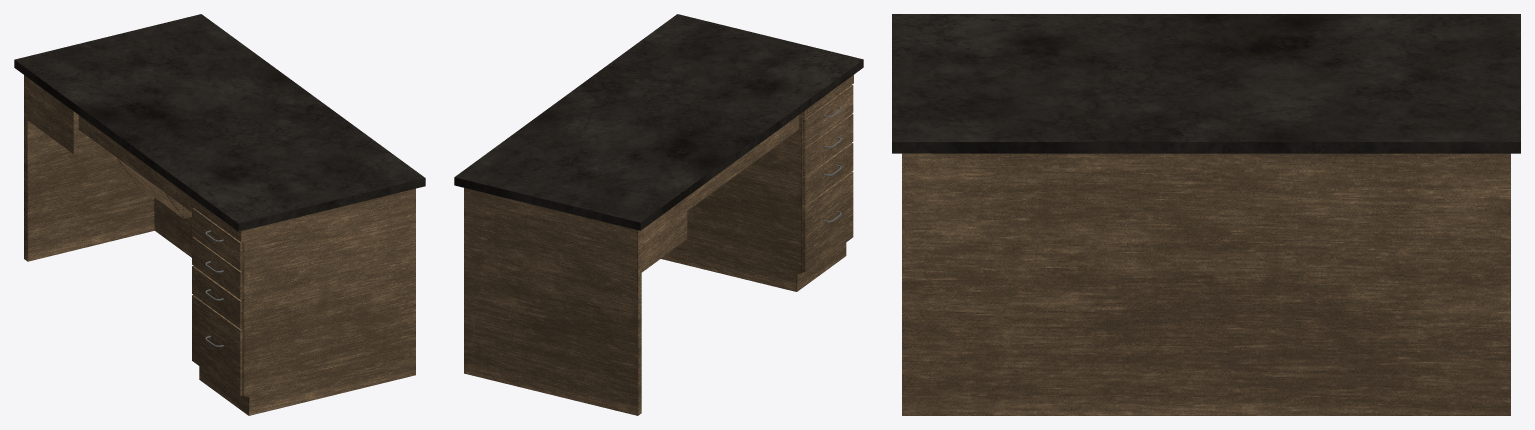
Rendered from ScienceTableMediumTextureResolution.glb.
3 renders of one model, left to right at view 1: azimuth 30°, elevation 25°; view 2: azimuth 150°, elevation 25°; view 3: azimuth 270°, elevation 25°, orthographic. The views are drawn at different scales.
Visible parts, largest first — view 1: Table; view 2: Table; view 3: Table.
Part boxes in pixels (x1=…): Table: x1=14, y1=14, x2=425, y2=415; Table: x1=454, y1=14, x2=863, y2=415; Table: x1=892, y1=14, x2=1520, y2=415.
Size of the model in its own units: 10.06 by 10.13 by 20.75.
Materials: 1 (1 with a texture image).
